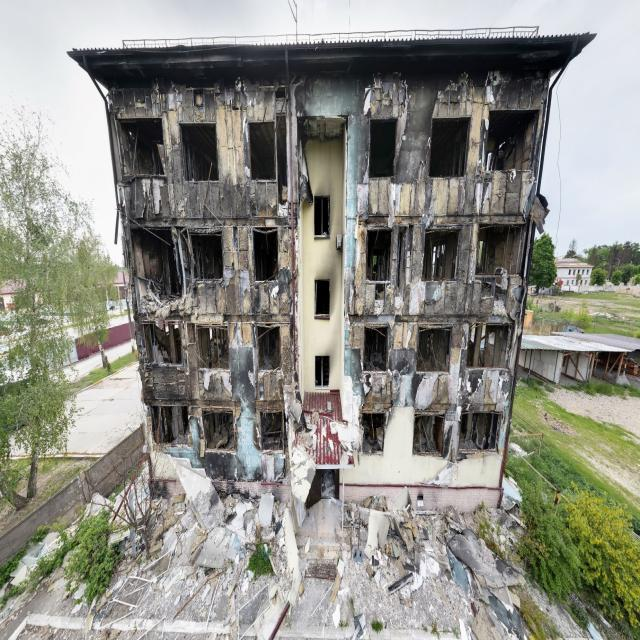broken_window: (428, 115, 470, 178), (179, 120, 219, 183), (422, 227, 461, 282), (245, 119, 278, 182), (415, 324, 452, 373), (368, 117, 397, 178), (251, 226, 279, 283), (366, 227, 391, 282), (362, 325, 388, 372), (313, 195, 330, 238), (314, 278, 330, 319)
building: (66, 27, 597, 517)
roof: (66, 26, 597, 86)
